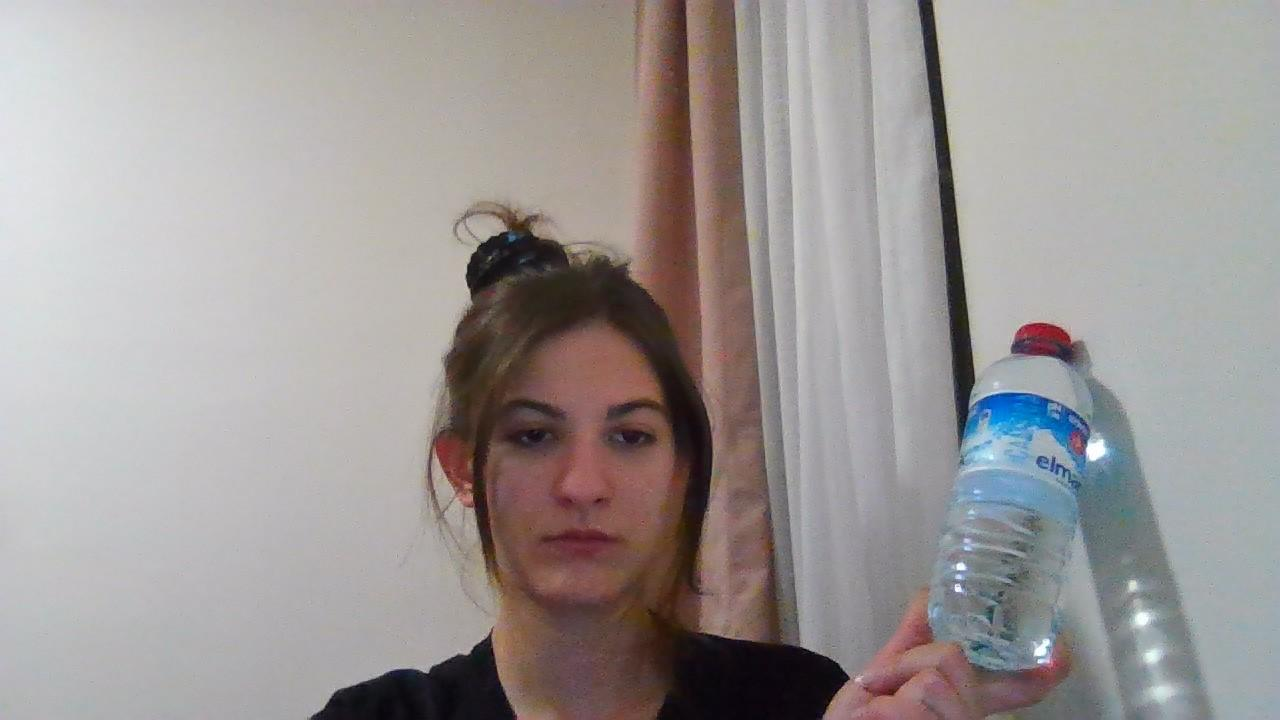bottle: (939, 321, 1093, 669)
